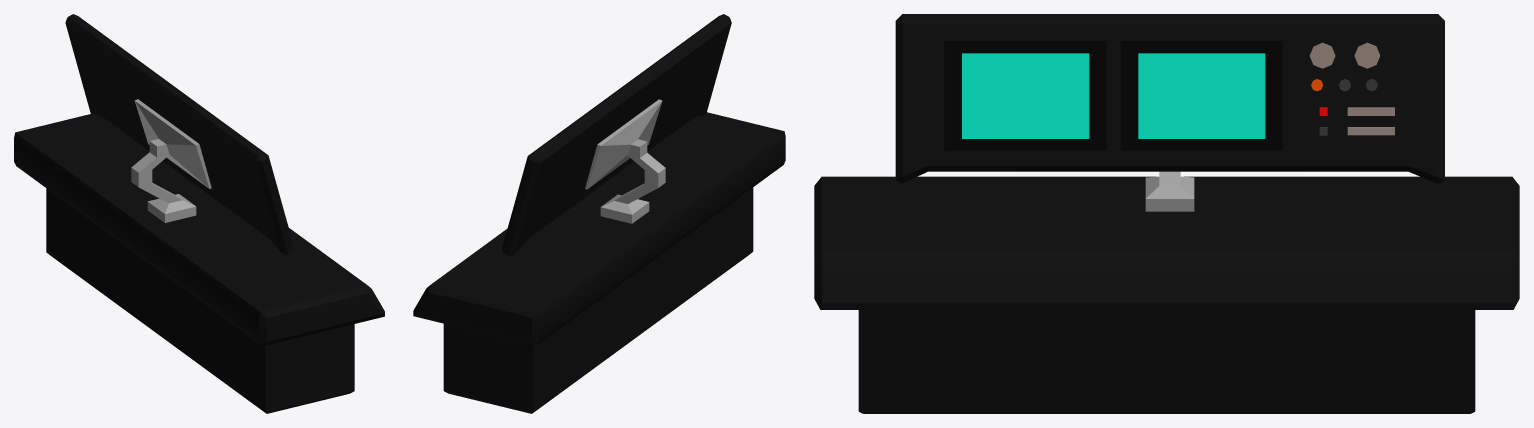
File: Panel de control.FBX
3 views of the same model, side by side, from view 1: azimuth 30°, elevation 25°; view 2: azimuth 150°, elevation 25°; view 3: azimuth 270°, elevation 25° (orthographic). The views are drawn at different scales.
Visible parts, largest first — view 1: Box046; view 2: Box046; view 3: Box046.
Part boxes in pixels (<box>): Box046: <box>14,14,384,413</box>; Box046: <box>413,14,785,413</box>; Box046: <box>814,14,1519,413</box>.
Size of the model in its own units: 4.77 by 8.97 by 16.44.
